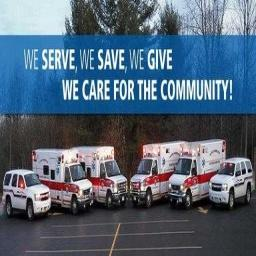Ambulance: (32, 149, 92, 214), (169, 139, 225, 208), (130, 141, 185, 207), (73, 146, 126, 208)
